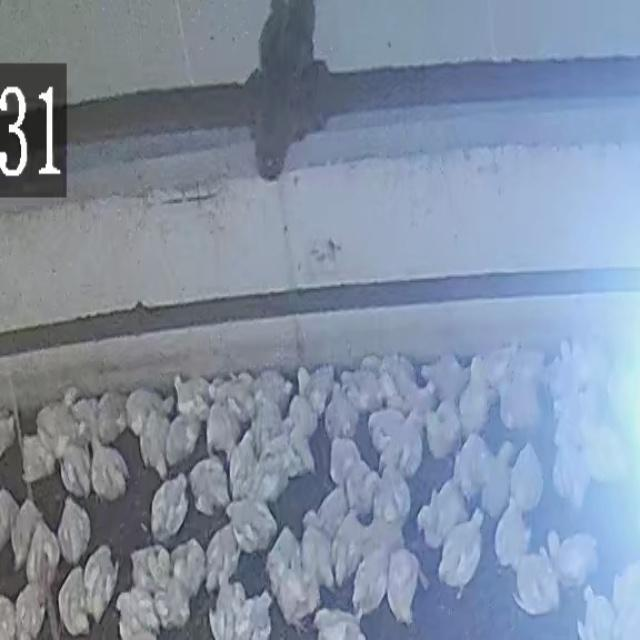chicken: (264, 526, 310, 616), (436, 512, 484, 598), (543, 528, 598, 590), (509, 553, 560, 617), (223, 496, 278, 555), (417, 481, 465, 548), (80, 545, 119, 627), (499, 364, 544, 435), (493, 496, 533, 572), (114, 587, 168, 640), (298, 518, 335, 595), (550, 433, 589, 506), (332, 507, 372, 578), (57, 564, 95, 637), (225, 433, 264, 503), (204, 522, 243, 592), (388, 549, 422, 629), (476, 441, 512, 515), (90, 436, 130, 502), (162, 413, 202, 478), (508, 442, 543, 516), (168, 540, 209, 601), (421, 353, 468, 406), (187, 456, 228, 516), (149, 475, 186, 541), (129, 544, 174, 598), (328, 437, 368, 497), (377, 428, 418, 486), (370, 467, 409, 527), (456, 372, 492, 437), (455, 432, 491, 496), (260, 432, 301, 488), (249, 401, 284, 464), (155, 573, 193, 631), (42, 387, 76, 451), (124, 387, 164, 441), (138, 414, 172, 477), (611, 561, 640, 634), (205, 400, 240, 460), (352, 553, 387, 613), (578, 588, 618, 640), (28, 514, 58, 582), (14, 580, 49, 638), (424, 405, 460, 461), (208, 579, 241, 640), (58, 499, 89, 563), (323, 384, 357, 442), (310, 606, 368, 640), (172, 371, 212, 420), (548, 344, 580, 405), (236, 590, 275, 640), (346, 366, 388, 412), (397, 411, 428, 470), (313, 486, 349, 536), (12, 500, 37, 570), (286, 392, 319, 444), (477, 346, 516, 389), (61, 445, 92, 498), (0, 488, 21, 560), (254, 368, 289, 410), (288, 428, 318, 477), (23, 436, 53, 479), (98, 392, 125, 439), (0, 409, 18, 464), (74, 401, 98, 435)
